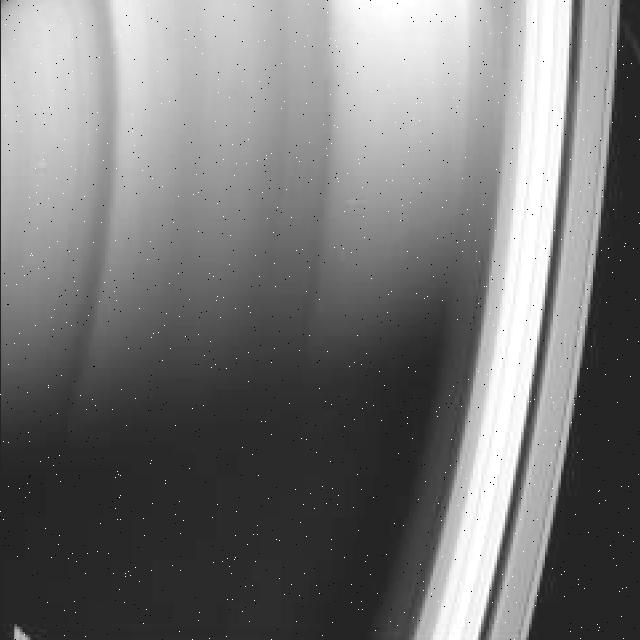Saturn: (1, 0, 626, 640)
